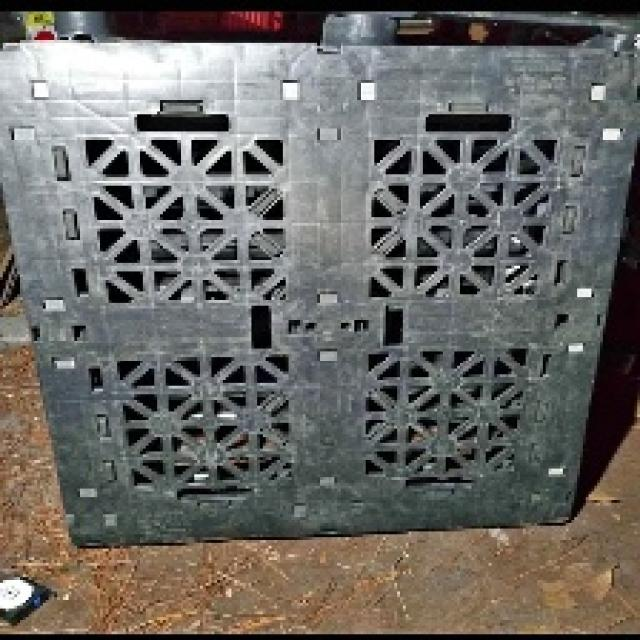igps: (0, 35, 640, 551)
